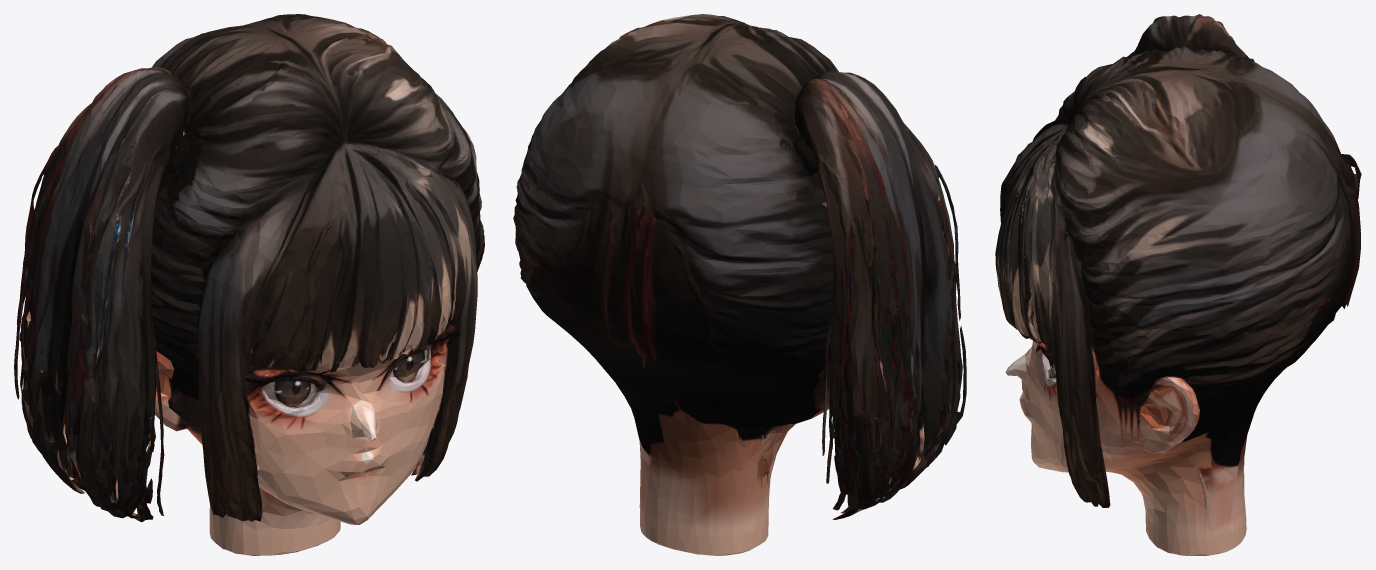
Rendered from side_momo_repaired_atlas.glb.
3 views of the same model, side by side, from view 1: azimuth 30°, elevation 25°; view 2: azimuth 150°, elevation 25°; view 3: azimuth 270°, elevation 25° (orthographic). The views are drawn at different scales.
Visible parts, largest first — view 1: temp_mesh.ply; view 2: temp_mesh.ply; view 3: temp_mesh.ply.
Part boxes in pixels (x1=…): temp_mesh.ply: x1=14, y1=14, x2=484, y2=555; temp_mesh.ply: x1=513, y1=14, x2=966, y2=555; temp_mesh.ply: x1=995, y1=14, x2=1361, y2=555.
Bounding box in the file's own units: 1.7 × 1.97 × 1.41.
Materials: 1 (1 with a texture image).
